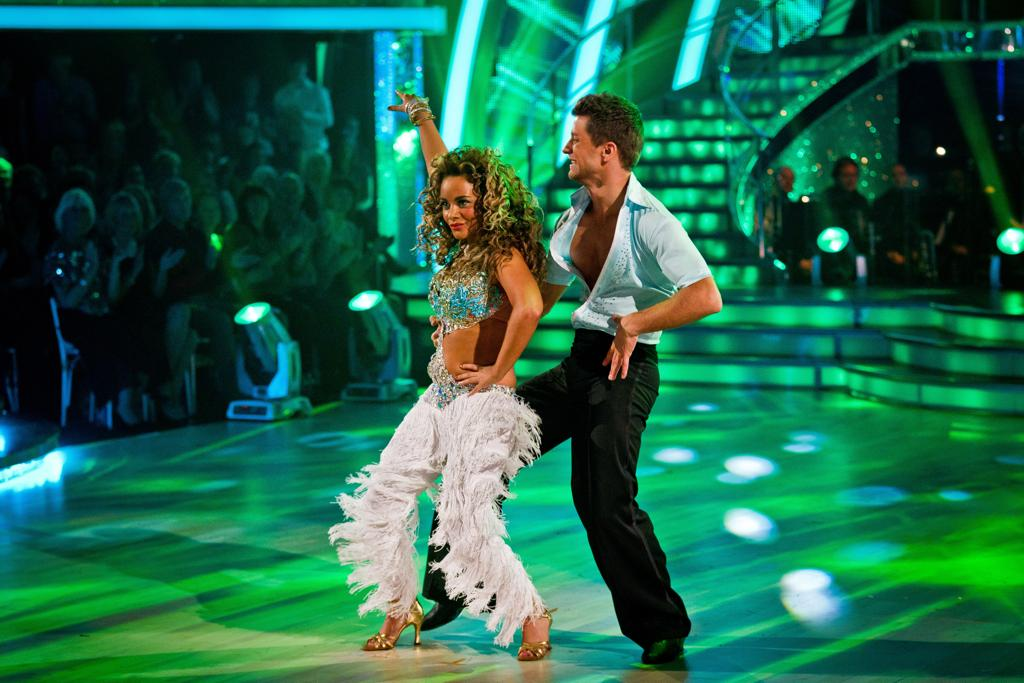face: (439, 178, 481, 239), (562, 118, 603, 178)
